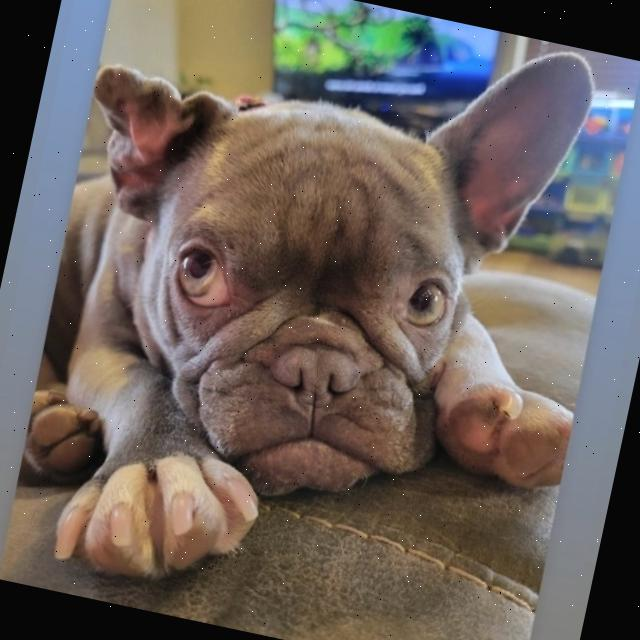french_bulldog_dog: (22, 0, 606, 542)
